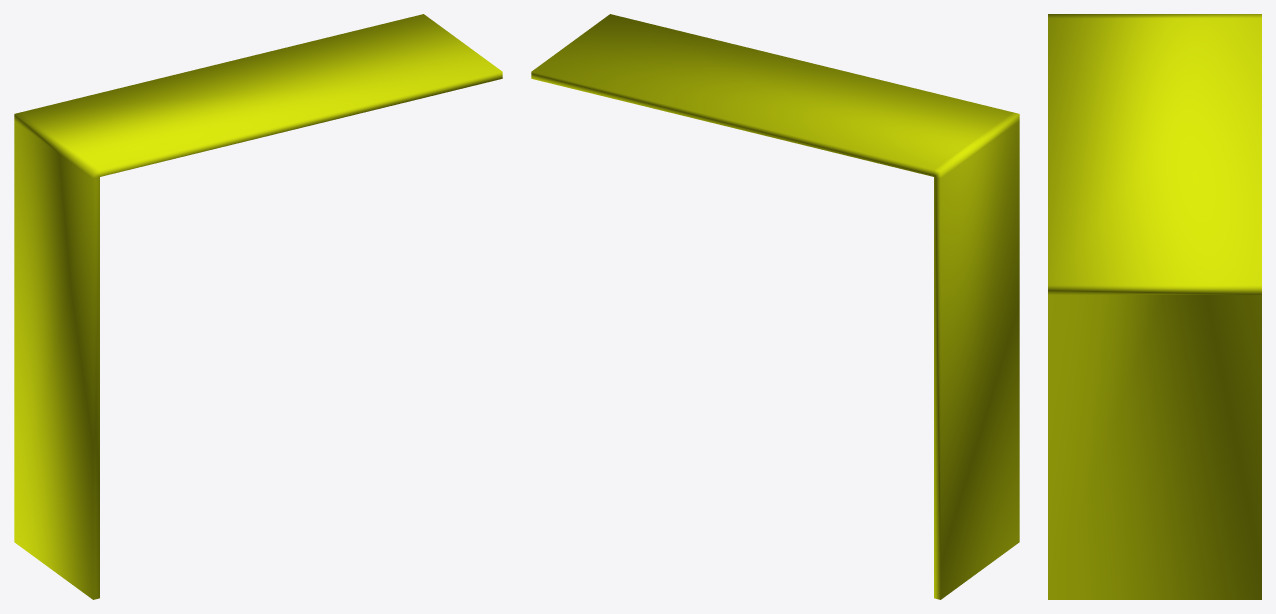
The model's file is wall_kitchen_v1.fbx.
3 views of the same model, side by side, from view 1: azimuth 30°, elevation 25°; view 2: azimuth 150°, elevation 25°; view 3: azimuth 270°, elevation 25° (orthographic). The views are drawn at different scales.
Visible parts, largest first — view 1: Cube.001; view 2: Cube.001; view 3: Cube.001.
Part boxes in pixels (bbox=[...]): Cube.001: bbox=[14, 14, 502, 599]; Cube.001: bbox=[531, 14, 1019, 599]; Cube.001: bbox=[1048, 14, 1261, 599].
Size of the model in its own units: 0.03 by 0.03 by 0.01.
